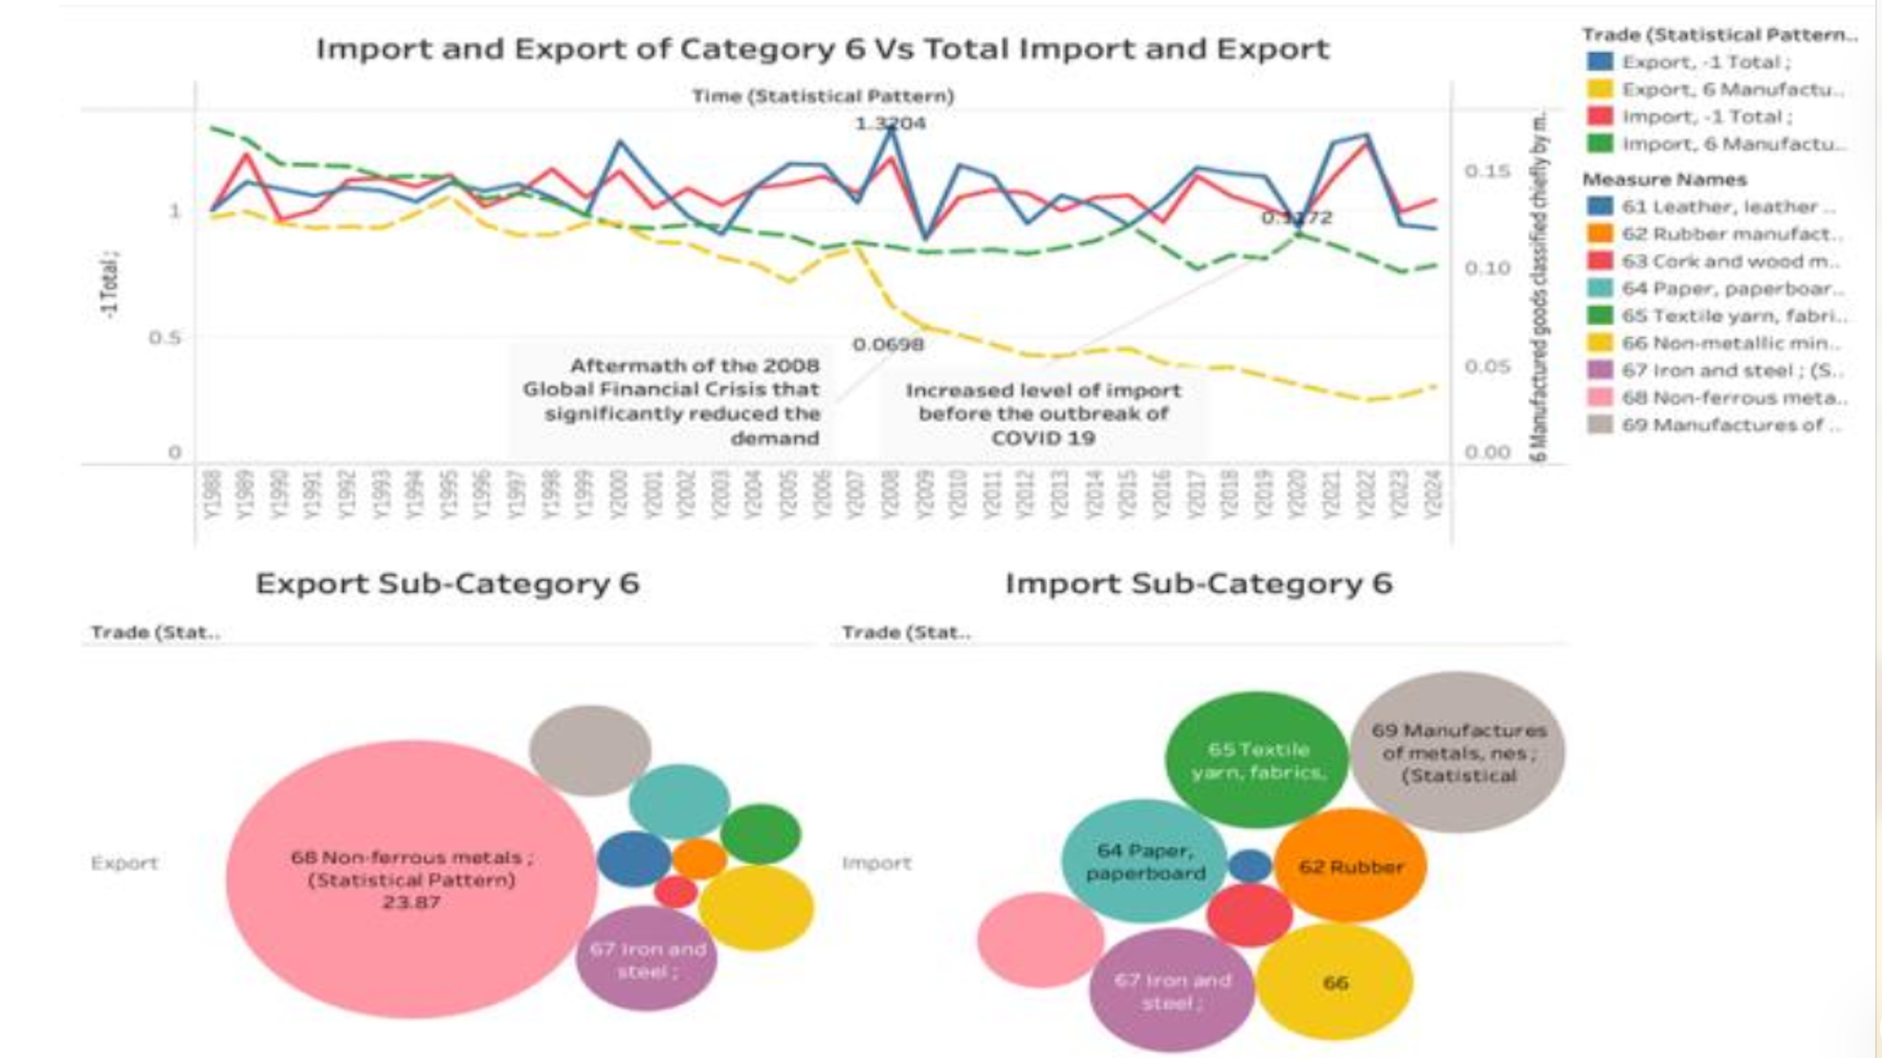

This screenshot's page, from the dashboard's own definition file:
{"tool":"tableau","page":{"name":"overview of Cat 6","canvas":[1000,700],"ordinal":2},"visuals":[{"type":"worksheet","title":"total imports and exports vs category 6","mark":"Line","rows":["-1 TOTAL ;","6 Manufactured goods classified chiefly by material ; (Stati"],"cols":["Time (Statistical Pattern)"],"box":[8,8,824,342]},{"type":"legend","title":"total imports and exports vs category 6","param":"[federated.064senz0qtlmkd191yqc00l86oz8].[none:Trade (Statistical Pattern):nk]\n[","box":[832,8,160,106]},{"type":"legend","title":"Export sub- category (6)","param":"[federated.064senz0qtlmkd191yqc00l86oz8].[:Measure Names]","box":[832,114,160,206]},{"type":"worksheet","title":"Export sub- category (6)","mark":"Circle","rows":["Trade (Statistical Pattern)"],"box":[8,350,412,342]},{"type":"worksheet","title":"Import sub- category (6)","mark":"Circle","rows":["Trade (Statistical Pattern)"],"box":[420,350,412,342]}]}

Visuals, with their boxes on the page's 1000x700 design canvas (x1, y1, x2, y2). These are canvas units, not pixel positions in the 1882x1058 screenshot, which may show the page scaled, cropped or inside an application window:
"total imports and exports vs category 6" worksheet (Line marks): BBox(8, 8, 832, 350)
"total imports and exports vs category 6" legend: BBox(832, 8, 992, 114)
"Export sub- category (6)" legend: BBox(832, 114, 992, 320)
"Export sub- category (6)" worksheet (Circle marks): BBox(8, 350, 420, 692)
"Import sub- category (6)" worksheet (Circle marks): BBox(420, 350, 832, 692)
